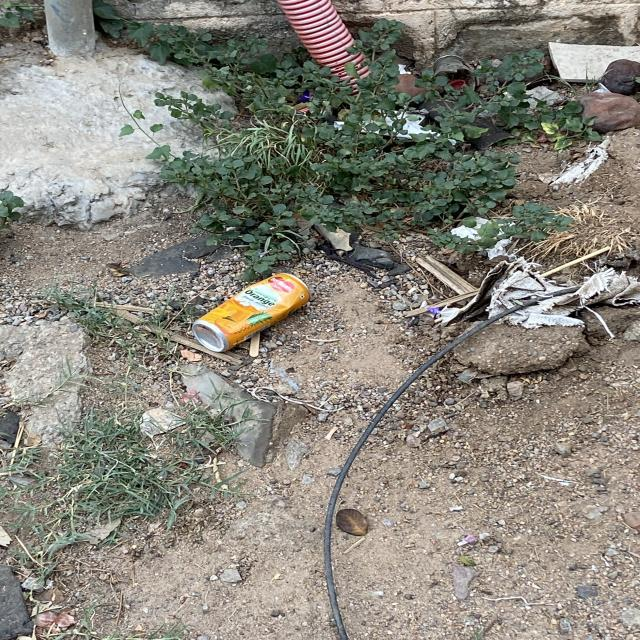kim_loai: (191, 274, 309, 352)
